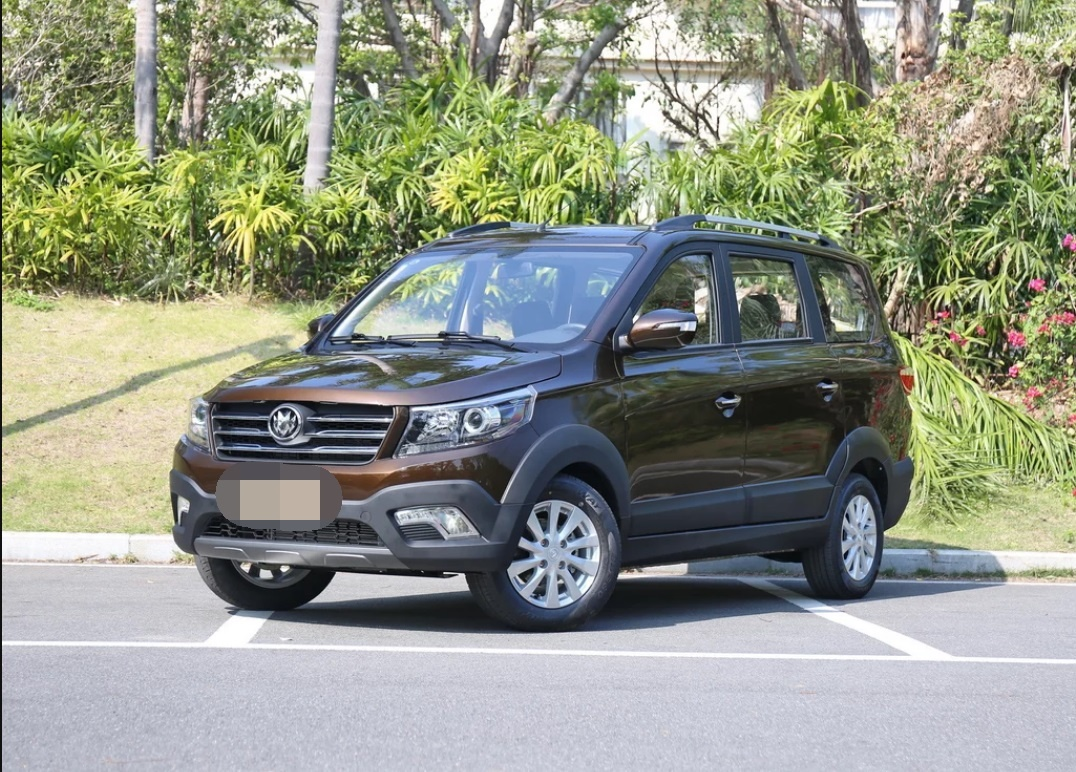SUV: (172, 215, 928, 629)
